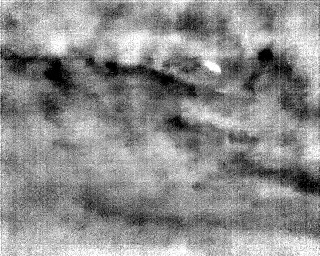BIRD: (202, 57, 224, 77)
